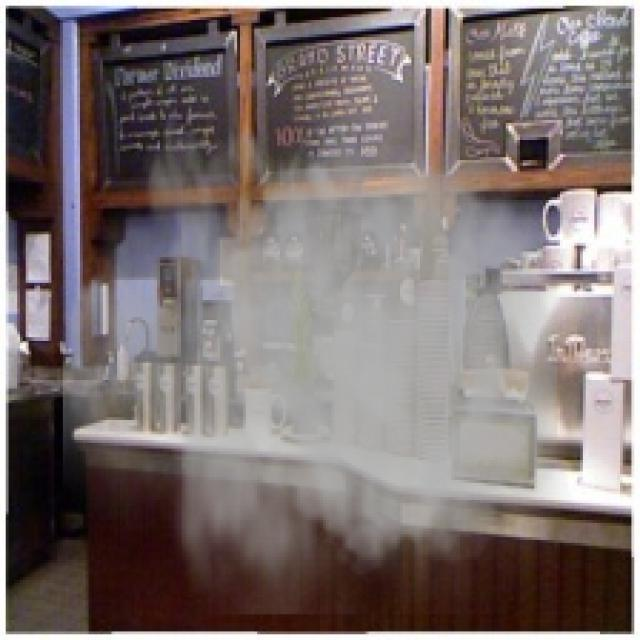Smoke: (62, 62, 588, 614)
